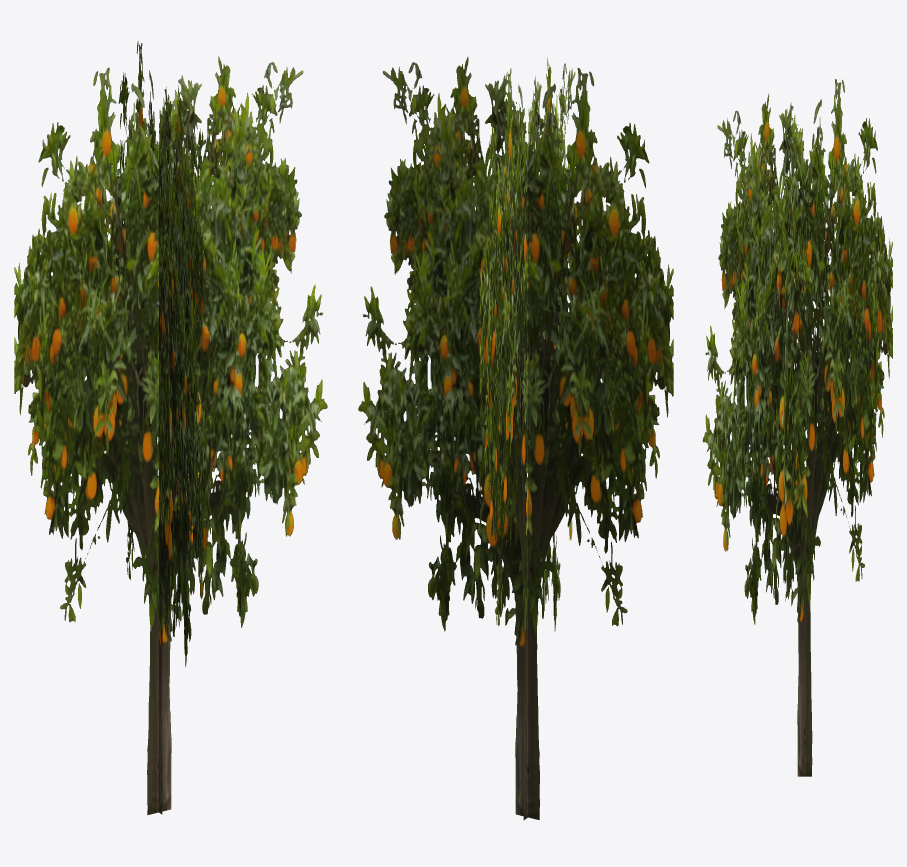
The model's file is orange tree.fbx.
3 views of the same model, side by side, from view 1: azimuth 30°, elevation 25°; view 2: azimuth 150°, elevation 25°; view 3: azimuth 270°, elevation 25° (orthographic). The views are drawn at different scales.
Parts seen in each view (by area): view 1: orange_tree1; view 2: orange_tree1; view 3: orange_tree1.
Boxes of the visible parts, <box> form: orange_tree1: <box>14,41,327,815</box>; orange_tree1: <box>358,57,673,820</box>; orange_tree1: <box>702,79,892,776</box>.
Bounding box in the file's own units: 486 × 1118 × 277.
1 material, 1 textured.
